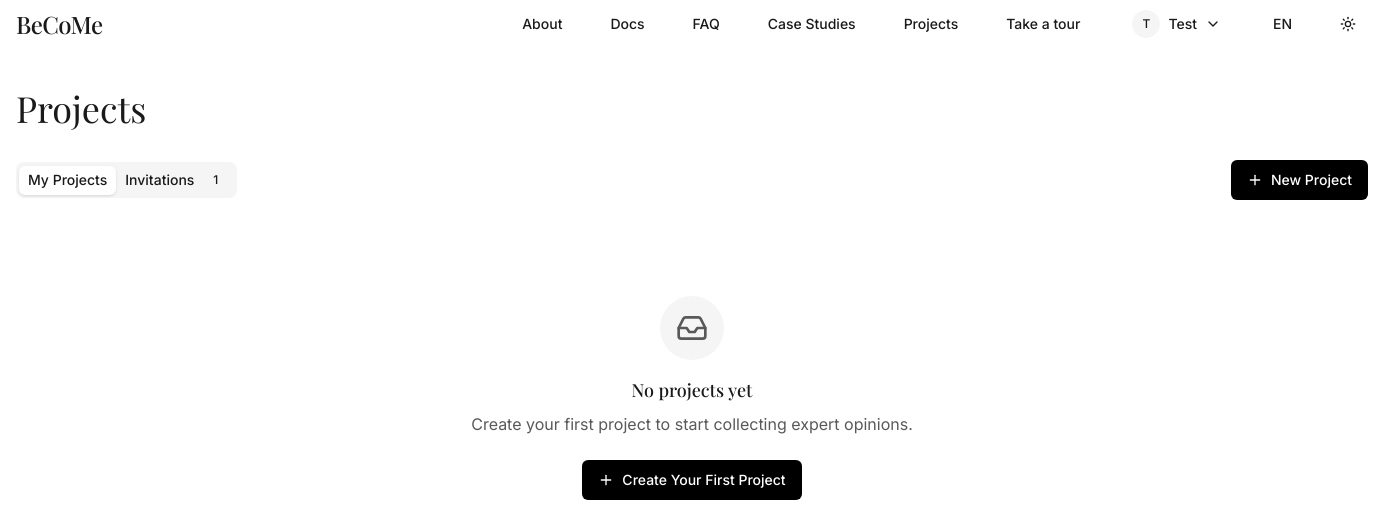
Test: Projects › Invitations › shows invitation details
The width and height of the screenshot is (1385, 517).
Click the tab "Invitations 1": {"x": 175, "y": 180} [116,166,234,194]
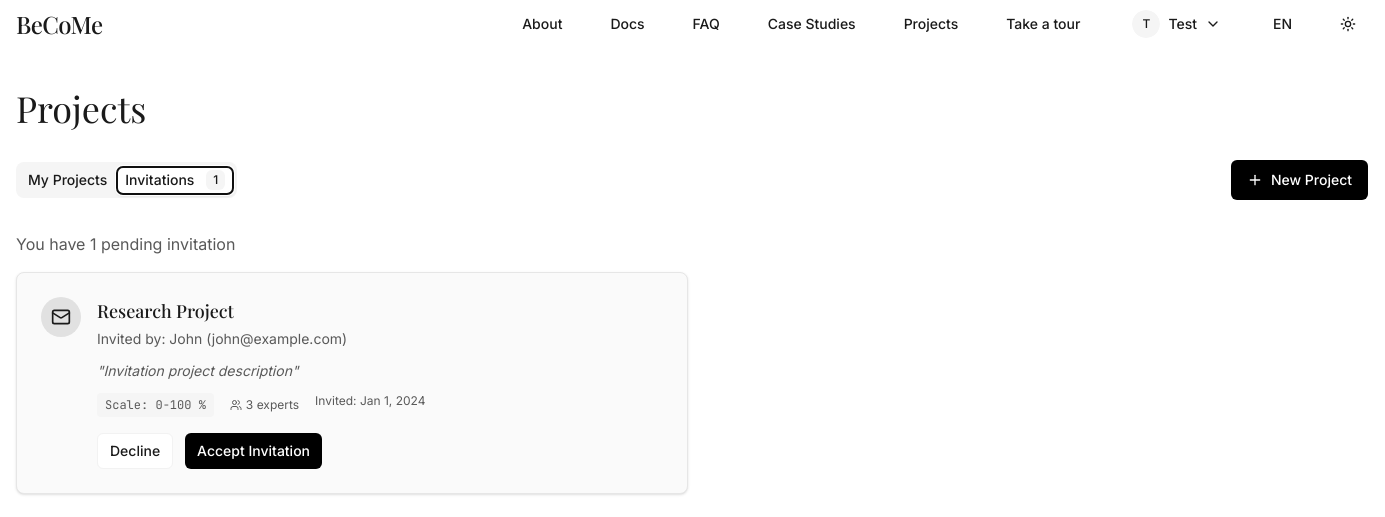
Check: the heading "Research Project" is shown, box [97,299,234,323]
Check: the text "Invited by: John (john@example.com)" is shown, box [97,330,347,347]
